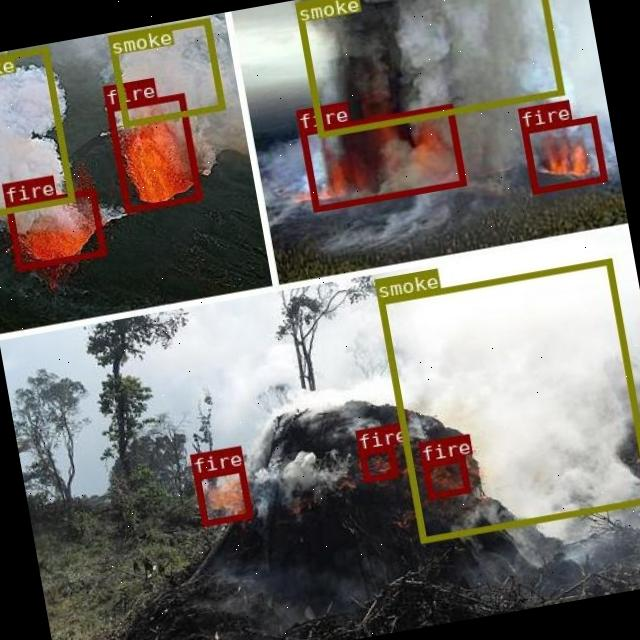fire: (298, 103, 464, 211), (106, 92, 200, 212), (5, 187, 105, 269), (520, 116, 605, 192), (193, 466, 252, 524), (421, 455, 469, 498), (358, 444, 397, 480)
smoke: (376, 258, 640, 543), (294, 0, 562, 137), (106, 17, 224, 125), (0, 44, 73, 216)
